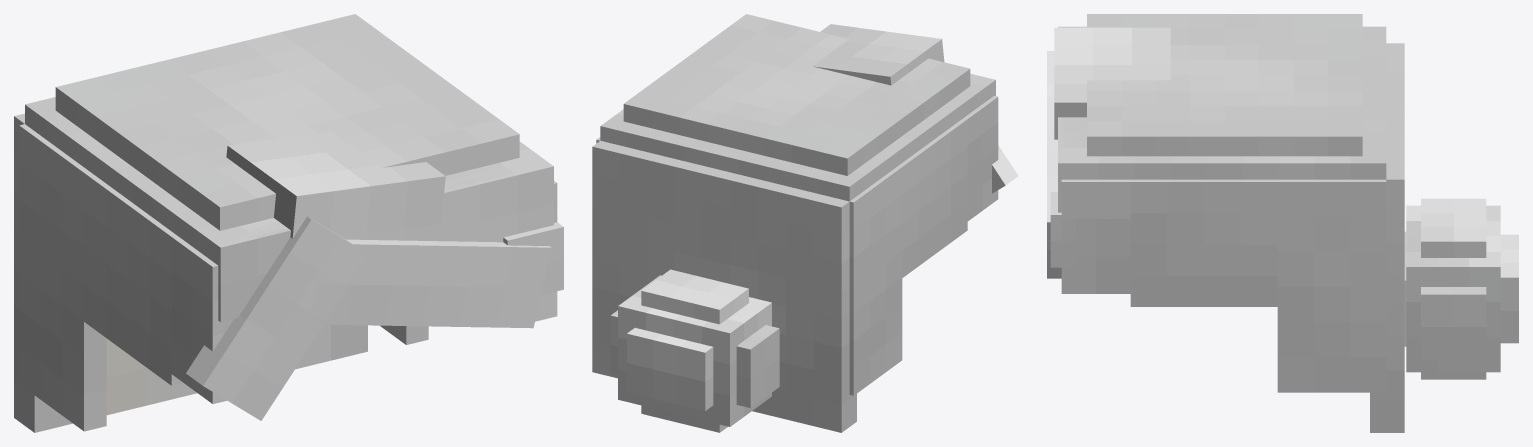
The model's file is low-bun-textured.gltf.
The picture shows the model from 3 angles, left to right: view 1: azimuth 30°, elevation 25°; view 2: azimuth 150°, elevation 25°; view 3: azimuth 270°, elevation 25°; orthographic projection. The views are drawn at different scales.
Visible parts, largest first — view 1: 정수리 볼륨, 쓸어 넘긴 앞머리 (×2), 옆머리 L (×2), 가르마 볼륨, 앞 머리선, 정수리, 뒤통수, 옆 앞쪽 L, 앞머리 끝, 옆 앞쪽 R, 옆머리 R; view 2: 뒤통수, 정수리 볼륨, 옆머리 L (×2), 정수리, 똥머리, 똥머리 뒤, 가르마 볼륨, 똥머리 위아래, 똥머리 옆, 옆 앞쪽 L, 쓸어 넘긴 앞머리; view 3: 옆머리 R (×2), 정수리 볼륨, 정수리, 뒤통수, 옆 앞쪽 R, 똥머리, 가르마 볼륨, 똥머리 옆, 똥머리 위아래, 똥머리 뒤, 앞머리 끝, 쓸어 넘긴 앞머리 (+1 smaller).
Part boxes in pixels (x1,y1,x2,y2): 정수리 볼륨: [55, 14, 519, 230]; 쓸어 넘긴 앞머리 (×2): [186, 216, 551, 420]; 옆머리 L (×2): [19, 124, 183, 431]; 가르마 볼륨: [226, 131, 445, 238]; 앞 머리선: [209, 158, 553, 321]; 정수리: [25, 97, 549, 264]; 뒤통수: [14, 113, 367, 432]; 옆 앞쪽 L: [171, 235, 233, 403]; 앞머리 끝: [503, 222, 563, 294]; 옆 앞쪽 R: [535, 181, 557, 321]; 옆머리 R: [380, 325, 428, 344]; 뒤통수: [592, 140, 856, 432]; 정수리 볼륨: [623, 14, 970, 175]; 옆머리 L (×2): [849, 118, 967, 395]; 정수리: [600, 76, 993, 201]; 똥머리: [618, 275, 771, 426]; 똥머리 뒤: [627, 328, 713, 411]; 가르마 볼륨: [813, 24, 944, 85]; 똥머리 위아래: [641, 269, 748, 432]; 똥머리 옆: [610, 310, 779, 407]; 옆 앞쪽 L: [964, 95, 998, 221]; 쓸어 넘긴 앞머리: [992, 145, 1018, 193]; 옆머리 R (×2): [1130, 179, 1386, 392]; 정수리 볼륨: [1087, 14, 1362, 156]; 정수리: [1063, 26, 1386, 179]; 뒤통수: [1370, 43, 1404, 432]; 옆 앞쪽 R: [1061, 179, 1130, 293]; 똥머리: [1406, 205, 1500, 372]; 가르마 볼륨: [1054, 27, 1170, 139]; 똥머리 옆: [1421, 287, 1486, 360]; 똥머리 위아래: [1421, 198, 1486, 379]; 똥머리 뒤: [1500, 234, 1518, 343]; 앞머리 끝: [1050, 192, 1075, 267]; 쓸어 넘긴 앞머리: [1047, 97, 1061, 278].
Bounding box in the file's own units: 0.6056 × 0.5683 × 0.8125.
Materials: 1 (1 with a texture image).
